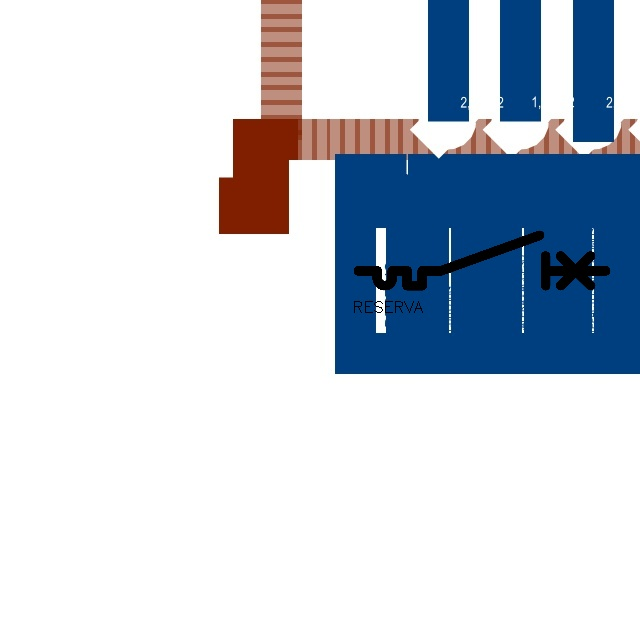interruptor_termomagnetico: (352, 229, 612, 292)
